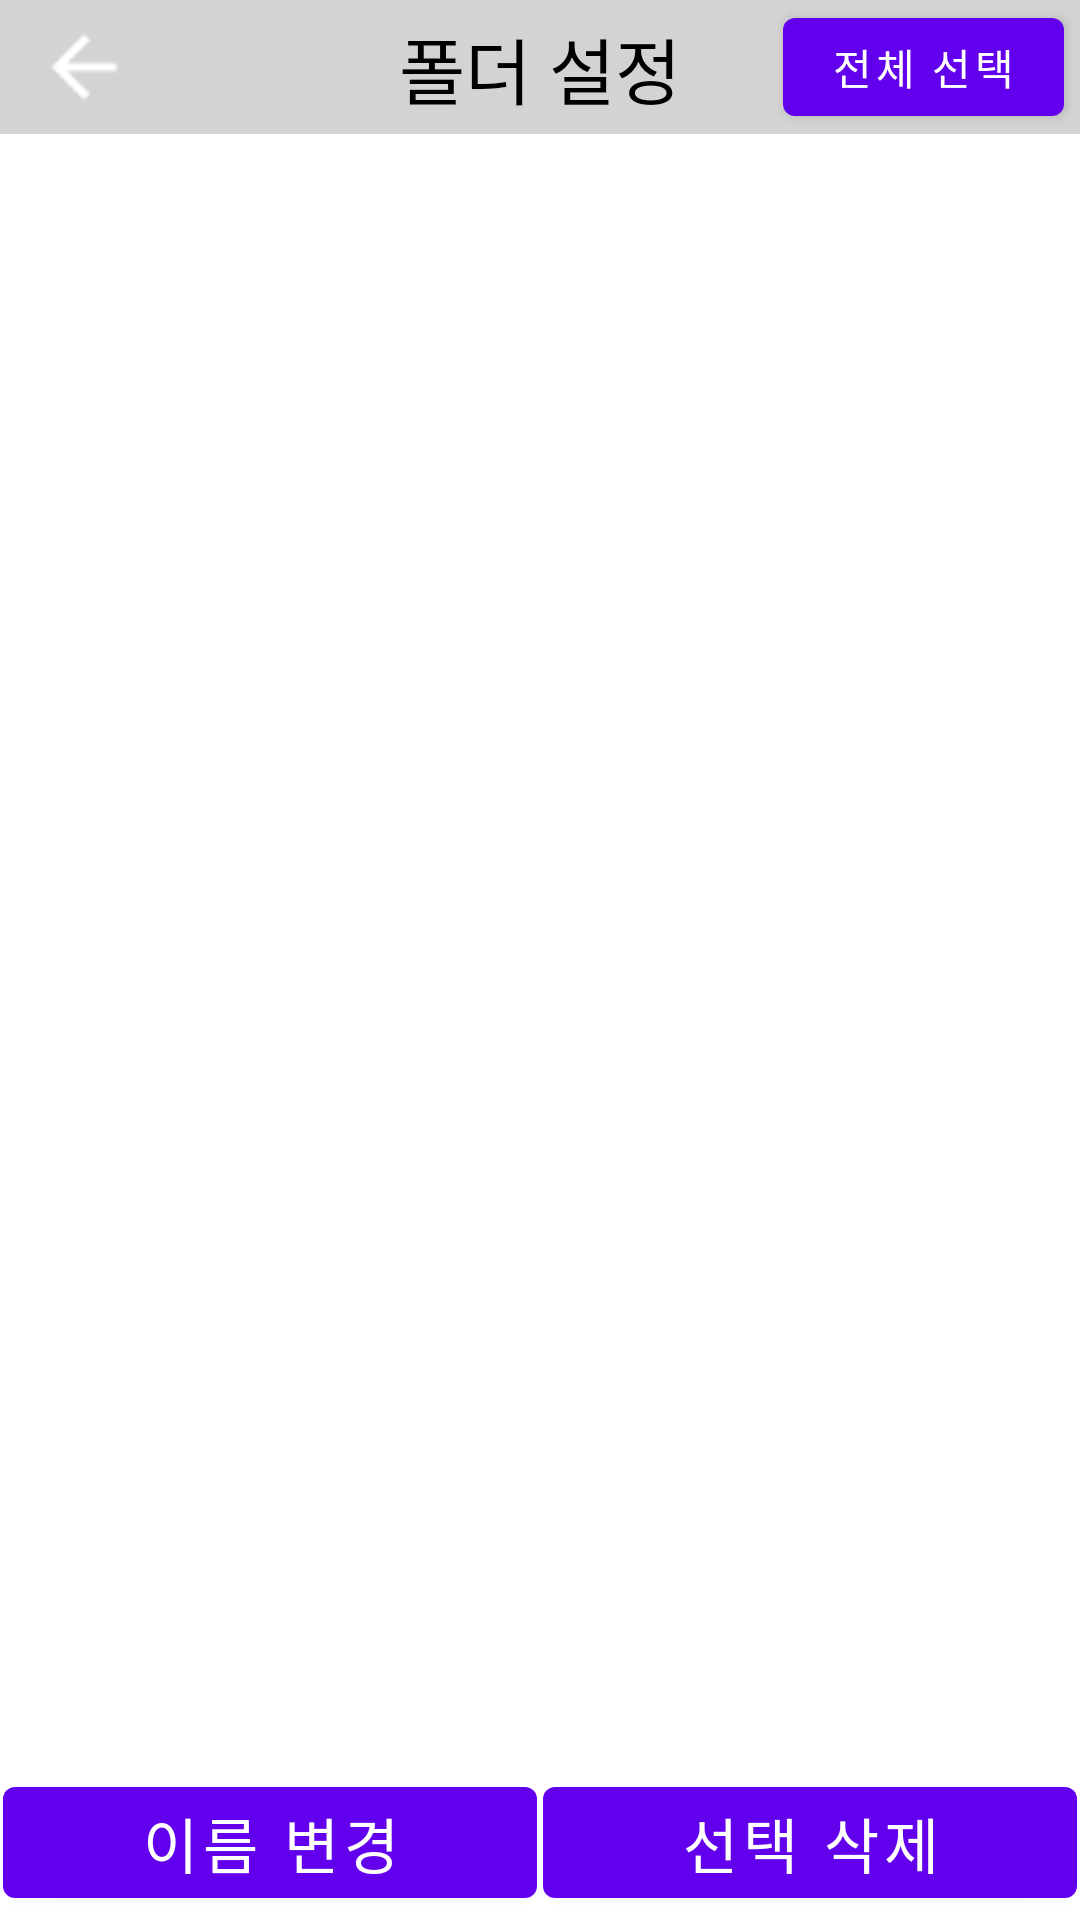

Icons on this 1080×1920 Android screen, each with the point to tap as [x,y]:
arrow back: [84,67]
